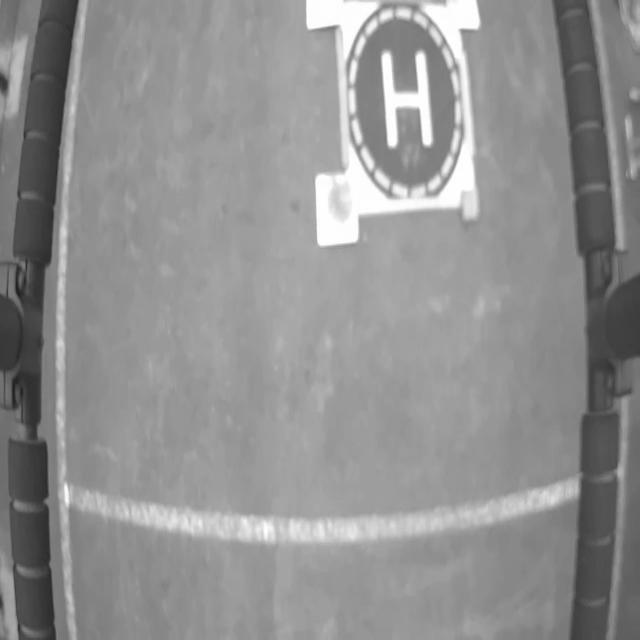Helipad: (381, 51, 434, 148)
